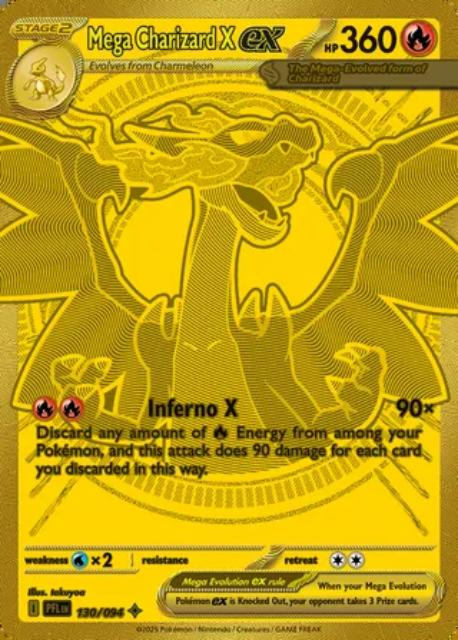Card: (0, 0, 458, 640)
Name: (82, 18, 296, 57)
